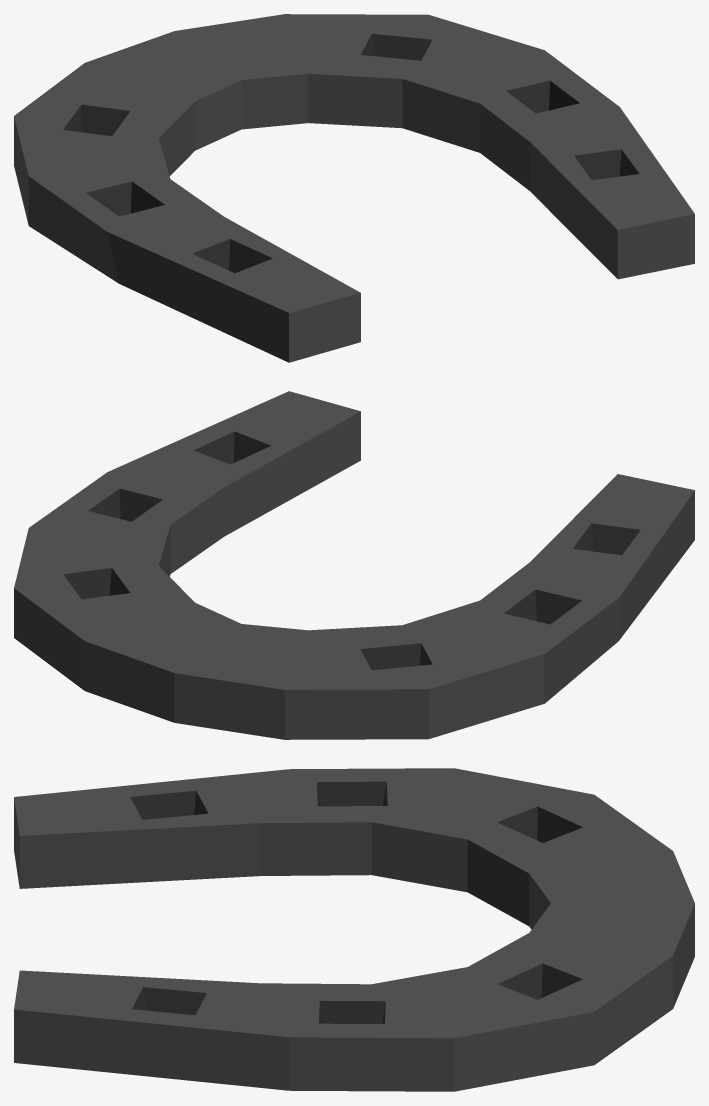
The model's file is shoe(heel_pad).fbx.
The picture shows the model from 3 angles, top to bottom: view 1: azimuth 30°, elevation 25°; view 2: azimuth 150°, elevation 25°; view 3: azimuth 270°, elevation 25°; orthographic projection. The views are drawn at different scales.
Visible parts, largest first — view 1: heel_pad; view 2: heel_pad; view 3: heel_pad.
Boxes of the visible parts, x1=… form: heel_pad: x1=14, y1=14, x2=694, y2=362; heel_pad: x1=14, y1=391, x2=694, y2=739; heel_pad: x1=14, y1=768, x2=694, y2=1091.
Bounding box in the file's own units: 15.66 × 1.45 × 16.69.
